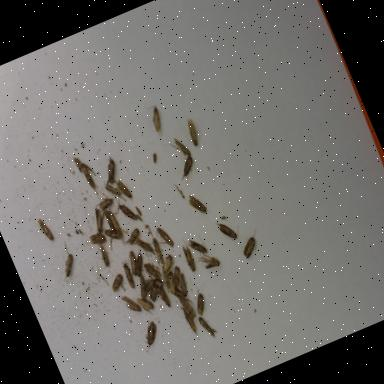pbw: (52, 240, 79, 278), (134, 318, 164, 352), (236, 228, 266, 260), (176, 237, 200, 274), (78, 158, 100, 198), (214, 214, 243, 244), (173, 153, 200, 182), (97, 155, 122, 186), (185, 232, 210, 262), (87, 204, 111, 235), (92, 186, 118, 214), (126, 248, 150, 278), (142, 259, 165, 290), (182, 307, 202, 342), (168, 134, 192, 162), (145, 104, 167, 134), (153, 223, 175, 252), (155, 251, 179, 277), (182, 116, 202, 147), (196, 313, 218, 341), (178, 292, 198, 322), (196, 249, 221, 273), (186, 190, 208, 217), (106, 207, 125, 238), (134, 291, 156, 317), (106, 268, 128, 293), (35, 215, 54, 243), (148, 237, 167, 265), (174, 272, 193, 300), (120, 260, 138, 289), (156, 264, 174, 293), (163, 268, 182, 295), (124, 249, 142, 277), (190, 292, 210, 317), (115, 178, 134, 204), (122, 292, 142, 316), (94, 244, 112, 270), (167, 264, 186, 288), (155, 284, 172, 310), (122, 227, 144, 247), (134, 276, 152, 300), (88, 228, 109, 248), (135, 236, 154, 258), (101, 207, 116, 232), (103, 225, 122, 244), (104, 181, 122, 200), (146, 284, 163, 304), (170, 285, 184, 302), (143, 279, 156, 293)
